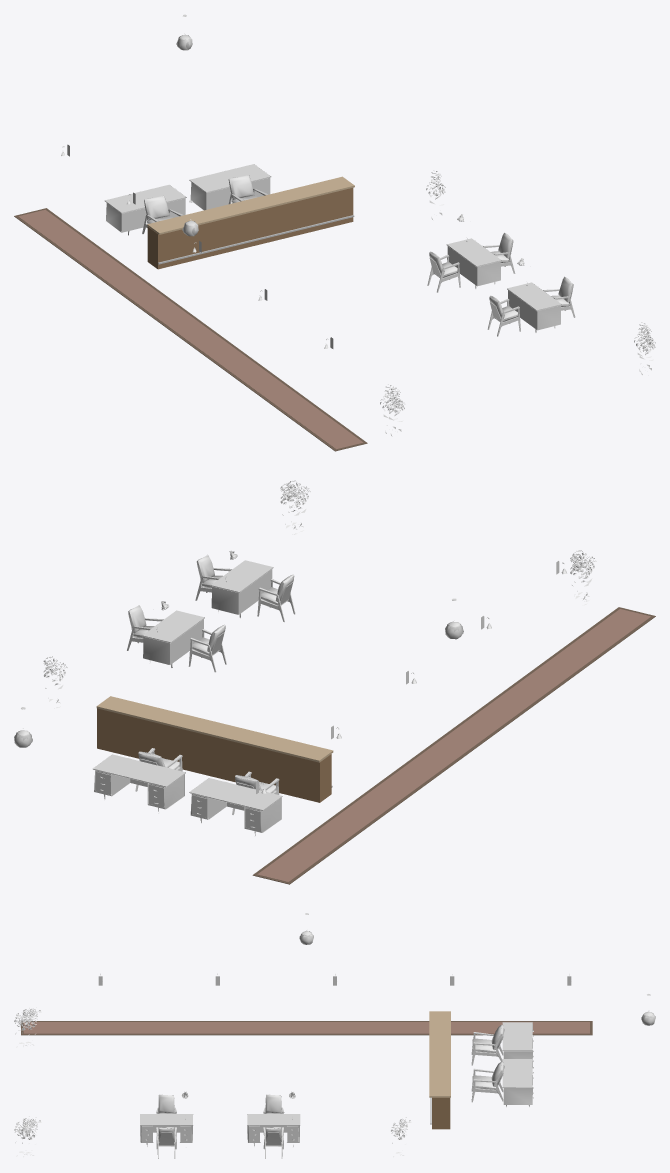
File: fine-s0.glb
3 views of the same model, one above another, from view 1: azimuth 30°, elevation 25°; view 2: azimuth 150°, elevation 25°; view 3: azimuth 270°, elevation 25° (orthographic). The views are drawn at different scales.
Visible parts, largest first — view 1: soft-s0, bar-counter.000, office-desk-real.000, office-desk-real.001, bar-counter.004, bar-counter.002, bar-counter.003, bar-counter.001, office-desk-real.002, office-desk-real.003, office-chair-real.005, office-chair-real.003 (+2 smaller); view 2: soft-s0, office-desk-real.001, office-desk-real.000, bar-counter.000, bar-counter.002, bar-counter.004, office-desk-real.003, office-desk-real.002, bar-counter.001, bar-counter.003, office-chair-real.003, office-chair-real.005 (+2 smaller); view 3: soft-s0, office-desk-real.001, office-desk-real.002, office-desk-real.003, office-desk-real.000, bar-counter.004, office-chair-real.001, office-chair-real.000, office-chair-real.004, office-chair-real.002, bar-counter.003, bar-counter.000 (+2 smaller).
Boxes of the visible parts, box(x1,y1,x2,y2) form: soft-s0: box(14, 208, 367, 451); bar-counter.000: box(147, 215, 198, 269); office-desk-real.000: box(104, 184, 186, 235); office-desk-real.001: box(189, 164, 271, 210); bar-counter.004: box(304, 176, 354, 231); bar-counter.002: box(225, 195, 276, 250); bar-counter.003: box(265, 186, 315, 240); bar-counter.001: box(186, 205, 237, 259); office-desk-real.002: box(446, 238, 501, 289); office-desk-real.003: box(507, 282, 561, 332); office-chair-real.005: box(487, 295, 520, 336); office-chair-real.003: box(427, 251, 460, 292); soft-s0: box(252, 607, 655, 884); office-desk-real.001: box(93, 754, 185, 813); office-desk-real.000: box(189, 778, 282, 836); bar-counter.000: box(275, 739, 333, 802); bar-counter.002: box(185, 718, 243, 780); bar-counter.004: box(96, 696, 154, 758); office-desk-real.003: box(211, 560, 273, 618); office-desk-real.002: box(142, 610, 204, 668); bar-counter.001: box(230, 728, 288, 785); bar-counter.003: box(141, 707, 198, 770); office-chair-real.003: box(188, 624, 226, 672); office-chair-real.005: box(257, 574, 295, 622); soft-s0: box(21, 1021, 592, 1035); office-desk-real.001: box(502, 1059, 533, 1107); office-desk-real.002: box(247, 1114, 300, 1147); office-desk-real.003: box(140, 1114, 193, 1147); office-desk-real.000: box(502, 1022, 533, 1061); bar-counter.004: box(429, 1079, 450, 1129); office-chair-real.001: box(471, 1061, 504, 1102); office-chair-real.000: box(471, 1024, 504, 1065); office-chair-real.004: box(156, 1126, 176, 1158); office-chair-real.002: box(263, 1126, 284, 1158); bar-counter.003: box(429, 1062, 450, 1106); bar-counter.000: box(429, 1011, 450, 1028).
Size of the model in its own units: 9.93 by 3.77 by 19.18.
